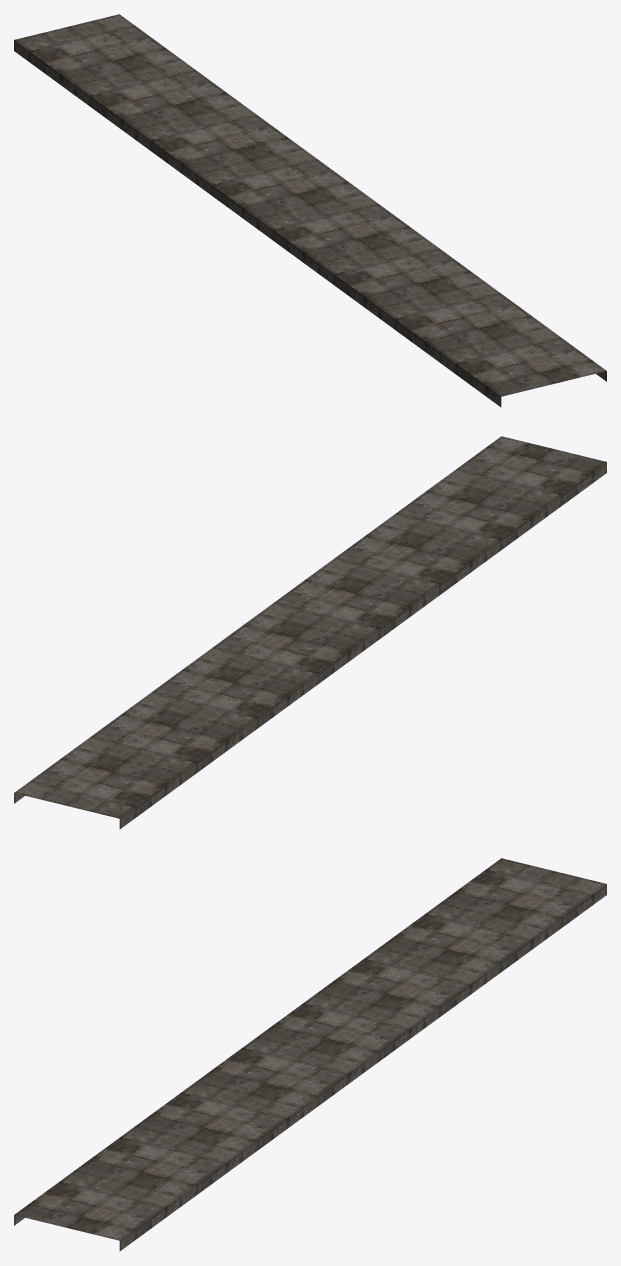
The model's file is SidewalkLong.glb.
3 views of the same model, one above another, from view 1: azimuth 30°, elevation 25°; view 2: azimuth 150°, elevation 25°; view 3: azimuth 330°, elevation 25° (orthographic).
Parts seen in each view (by area): view 1: SidewalkLong; view 2: SidewalkLong; view 3: SidewalkLong.
Boxes of the visible parts, x1,y1,x2,y2 form: SidewalkLong: (14,14,606,407); SidewalkLong: (14,436,606,829); SidewalkLong: (14,858,606,1251).
Bounding box in the file's own units: 1 × 0.1 × 8.
1 material, 1 textured.
